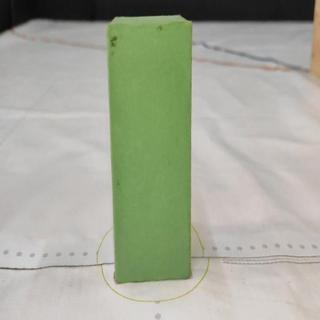greenbox: (108, 13, 194, 291)
